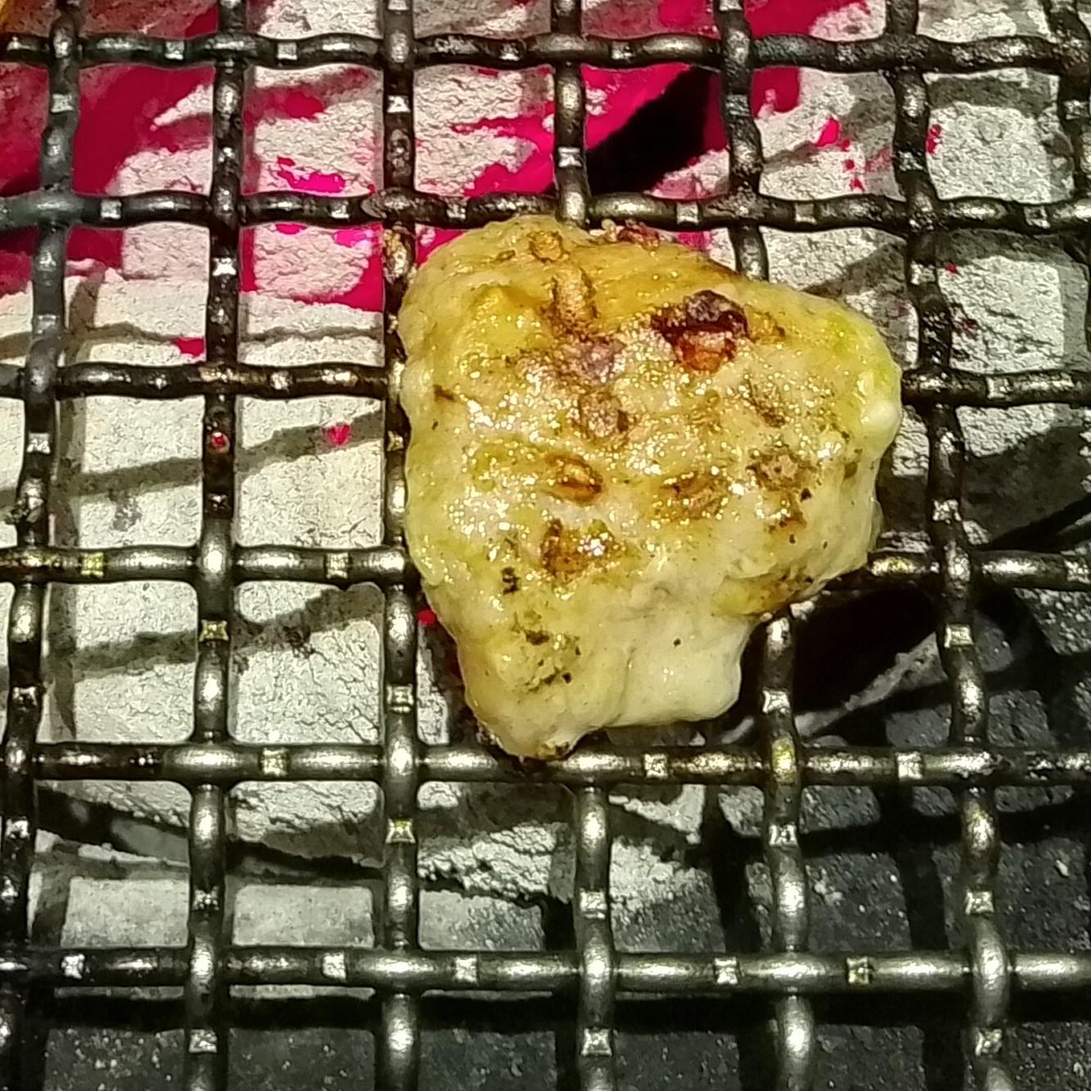Well-Cooked: (396, 214, 900, 760)
